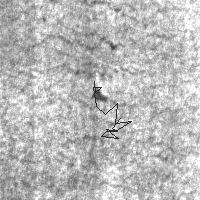crazing: (1, 1, 141, 50), (1, 107, 119, 162), (93, 81, 131, 138)
